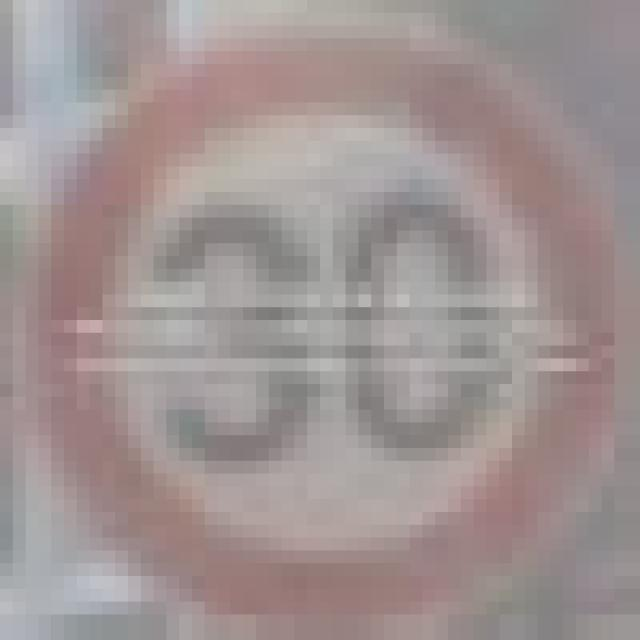SPEED_LIMIT_30: (26, 13, 602, 614)
